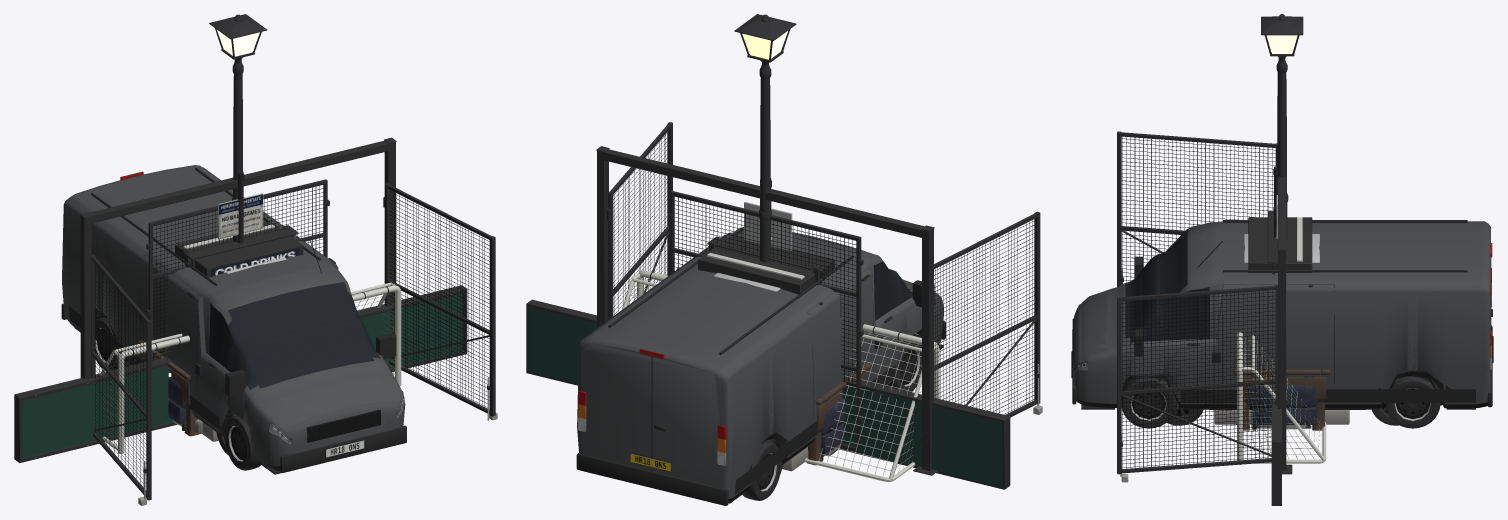
The model's file is heron-reach-props.glb.
3 views of the same model, side by side, from view 1: azimuth 30°, elevation 25°; view 2: azimuth 150°, elevation 25°; view 3: azimuth 270°, elevation 25° (orthographic). The views are drawn at different scales.
Visible parts, largest first — view 1: VAN_DELIVERY_mesh, VAN_DELIVERY_FAR_mesh, CAGE_GATE_4M_mesh, SHOP_SIGN_CORNER_mesh, CAGE_PANEL_2_5M_mesh, GOAL_FIVE_A_SIDE_mesh, LAMP_COLUMN_mesh, SHOP_FRIDGE_mesh, SIGN_POST_mesh, NOTICE_BOARD_mesh, POOL_TABLE_mesh, YOUTH_SOFA_mesh; view 2: VAN_DELIVERY_mesh, CAGE_GATE_4M_mesh, VAN_DELIVERY_FAR_mesh, SHOP_SIGN_CORNER_mesh, CAGE_PANEL_2_5M_mesh, GOAL_FIVE_A_SIDE_mesh, LAMP_COLUMN_mesh, SHOP_FRIDGE_mesh, SIGN_POST_mesh, NOTICE_BOARD_mesh, POOL_TABLE_mesh, YOUTH_SOFA_mesh; view 3: VAN_DELIVERY_mesh, VAN_DELIVERY_FAR_mesh, CAGE_GATE_4M_mesh, GOAL_FIVE_A_SIDE_mesh, LAMP_COLUMN_mesh, SHOP_FRIDGE_mesh, YOUTH_SOFA_mesh, POOL_TABLE_mesh, SHOP_SIGN_CORNER_mesh, ROOF_TANK_mesh, CAR_HATCHBACK_mesh, NOTICE_BOARD_mesh.
Part boxes in pixels (bbox=[...]): VAN_DELIVERY_mesh: bbox=[61, 165, 406, 474]; VAN_DELIVERY_FAR_mesh: bbox=[62, 166, 404, 469]; CAGE_GATE_4M_mesh: bbox=[80, 137, 497, 505]; SHOP_SIGN_CORNER_mesh: bbox=[14, 285, 467, 462]; CAGE_PANEL_2_5M_mesh: bbox=[146, 179, 329, 361]; GOAL_FIVE_A_SIDE_mesh: bbox=[100, 282, 401, 453]; LAMP_COLUMN_mesh: bbox=[209, 14, 266, 242]; SHOP_FRIDGE_mesh: bbox=[175, 221, 303, 277]; SIGN_POST_mesh: bbox=[218, 193, 263, 239]; NOTICE_BOARD_mesh: bbox=[184, 225, 298, 269]; POOL_TABLE_mesh: bbox=[138, 340, 198, 436]; YOUTH_SOFA_mesh: bbox=[153, 356, 185, 430]; VAN_DELIVERY_mesh: bbox=[576, 227, 945, 505]; CAGE_GATE_4M_mesh: bbox=[596, 122, 1042, 475]; VAN_DELIVERY_FAR_mesh: bbox=[579, 232, 942, 501]; SHOP_SIGN_CORNER_mesh: bbox=[526, 299, 1010, 489]; CAGE_PANEL_2_5M_mesh: bbox=[667, 190, 863, 451]; GOAL_FIVE_A_SIDE_mesh: bbox=[622, 270, 939, 481]; LAMP_COLUMN_mesh: bbox=[734, 14, 796, 262]; SHOP_FRIDGE_mesh: bbox=[698, 234, 834, 294]; SIGN_POST_mesh: bbox=[744, 202, 792, 250]; NOTICE_BOARD_mesh: bbox=[707, 236, 829, 285]; POOL_TABLE_mesh: bbox=[807, 362, 872, 465]; YOUTH_SOFA_mesh: bbox=[820, 398, 844, 460]; VAN_DELIVERY_mesh: bbox=[1071, 220, 1493, 428]; VAN_DELIVERY_FAR_mesh: bbox=[1073, 221, 1492, 420]; CAGE_GATE_4M_mesh: bbox=[1117, 131, 1292, 482]; GOAL_FIVE_A_SIDE_mesh: bbox=[1236, 332, 1326, 464]; LAMP_COLUMN_mesh: bbox=[1261, 14, 1303, 240]; SHOP_FRIDGE_mesh: bbox=[1248, 217, 1312, 272]; YOUTH_SOFA_mesh: bbox=[1247, 375, 1317, 430]; POOL_TABLE_mesh: bbox=[1233, 369, 1330, 430]; SHOP_SIGN_CORNER_mesh: bbox=[1271, 368, 1281, 505]; ROOF_TANK_mesh: bbox=[1214, 410, 1349, 424]; CAR_HATCHBACK_mesh: bbox=[1125, 375, 1442, 425]; NOTICE_BOARD_mesh: bbox=[1267, 211, 1277, 274].
Bounding box in the file's own units: 6.04 × 5.31 × 5.
Materials: 61 (19 with a texture image).
